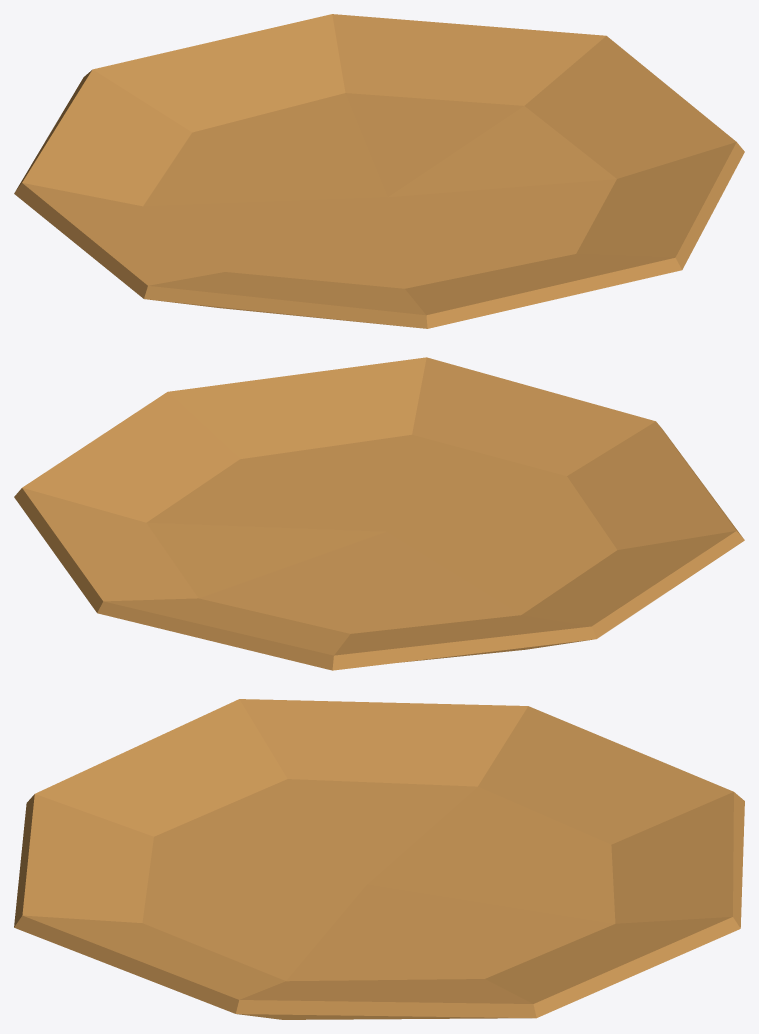
File: SM_Prop_Gold_Plate_05.fbx
3 views of the same model, one above another, from view 1: azimuth 30°, elevation 25°; view 2: azimuth 150°, elevation 25°; view 3: azimuth 270°, elevation 25° (orthographic). The views are drawn at different scales.
Parts seen in each view (by area): view 1: SM_Prop_Gold_Plate_05; view 2: SM_Prop_Gold_Plate_05; view 3: SM_Prop_Gold_Plate_05.
Boxes of the visible parts, x1,y1,x2,y2 form: SM_Prop_Gold_Plate_05: [14, 14, 744, 328]; SM_Prop_Gold_Plate_05: [14, 357, 744, 670]; SM_Prop_Gold_Plate_05: [14, 699, 744, 1019].
Bounding box in the file's own units: 114 × 11.6 × 112.
